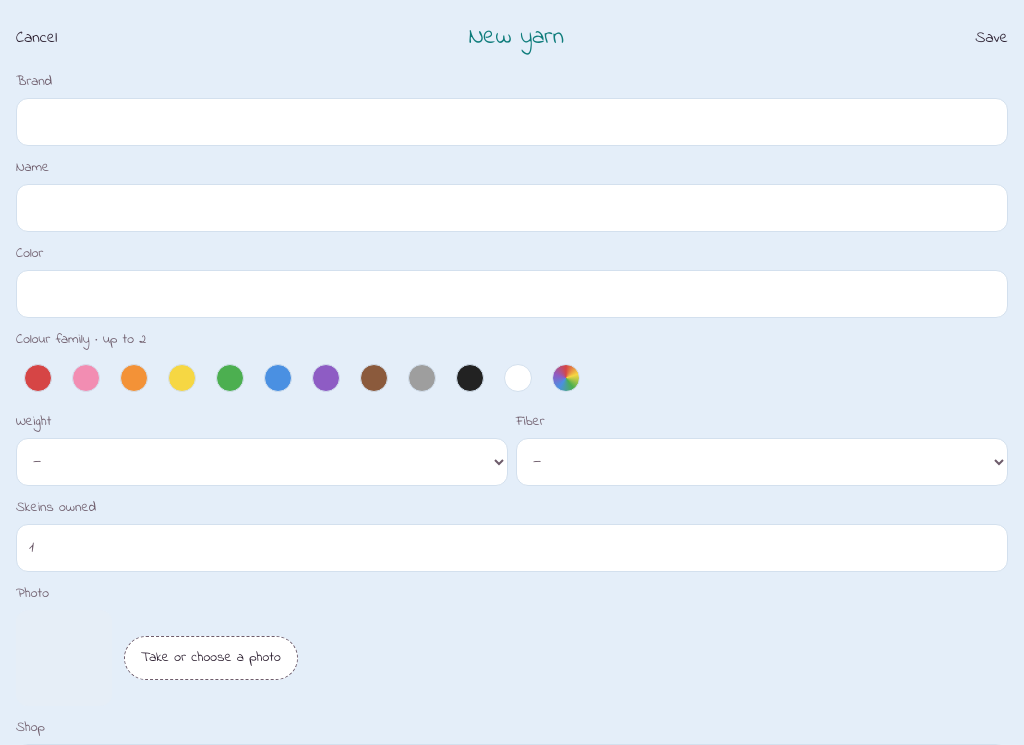
Test: brand narrows the name suggestions; picking a name fills weight and fiber
Type "Hob" into the field labelled "Brand" at (512, 122), box [16, 98, 1008, 146]
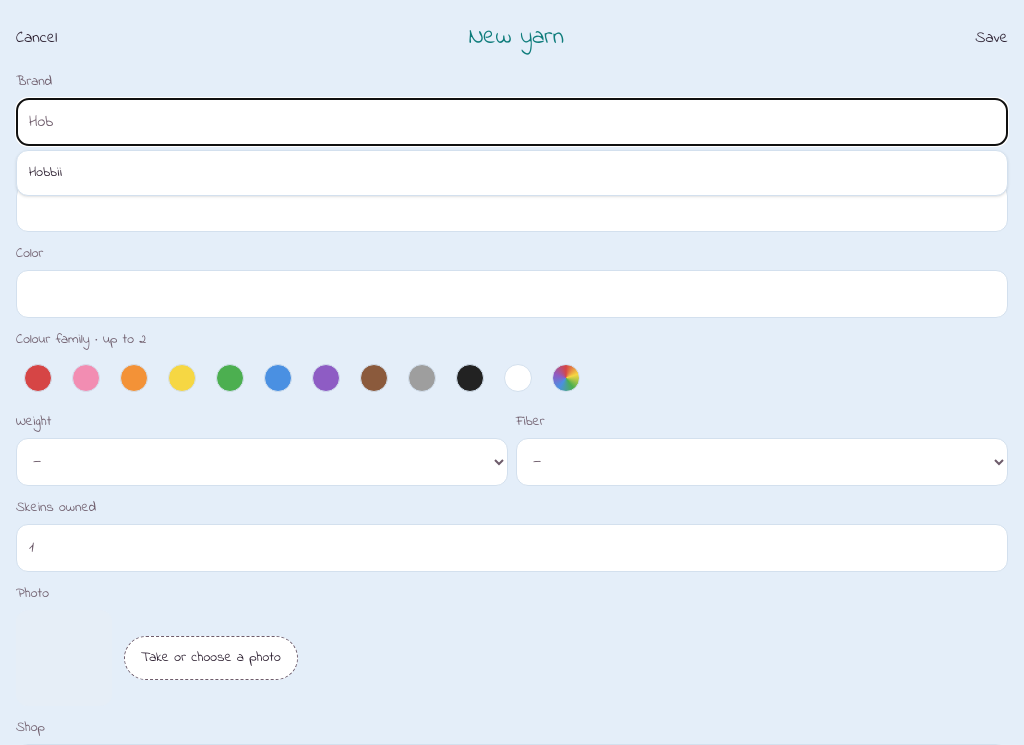
Click the option "Hobbii" at (45, 172), box [17, 151, 1007, 195]
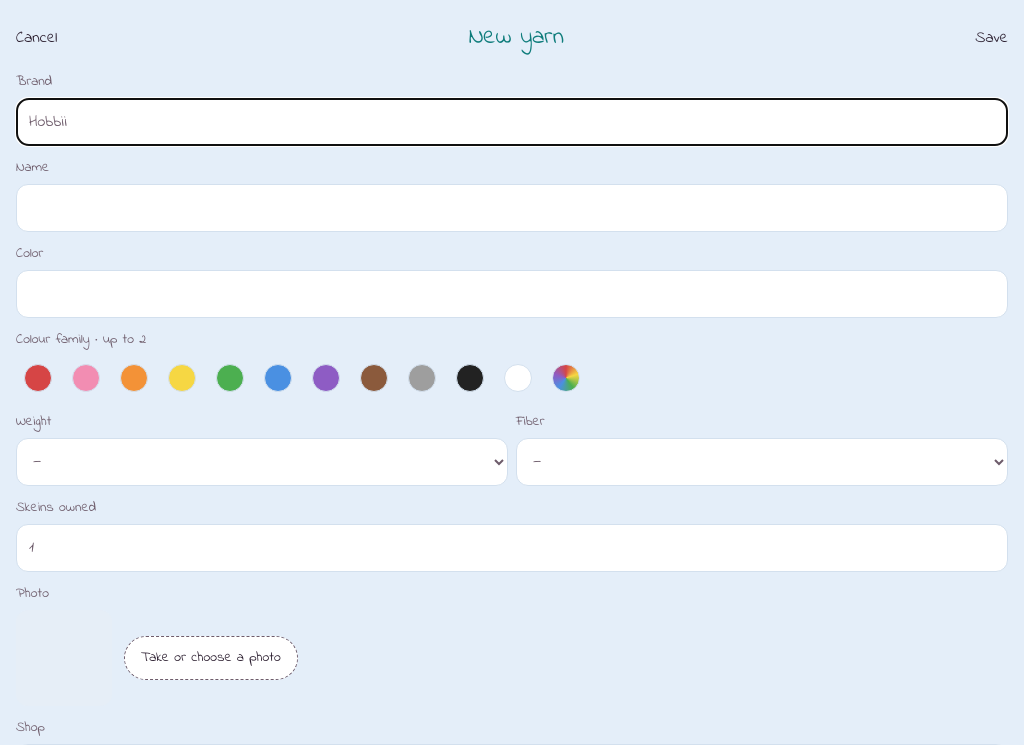
Click the field labelled "Name" at (512, 208), box [16, 184, 1008, 232]
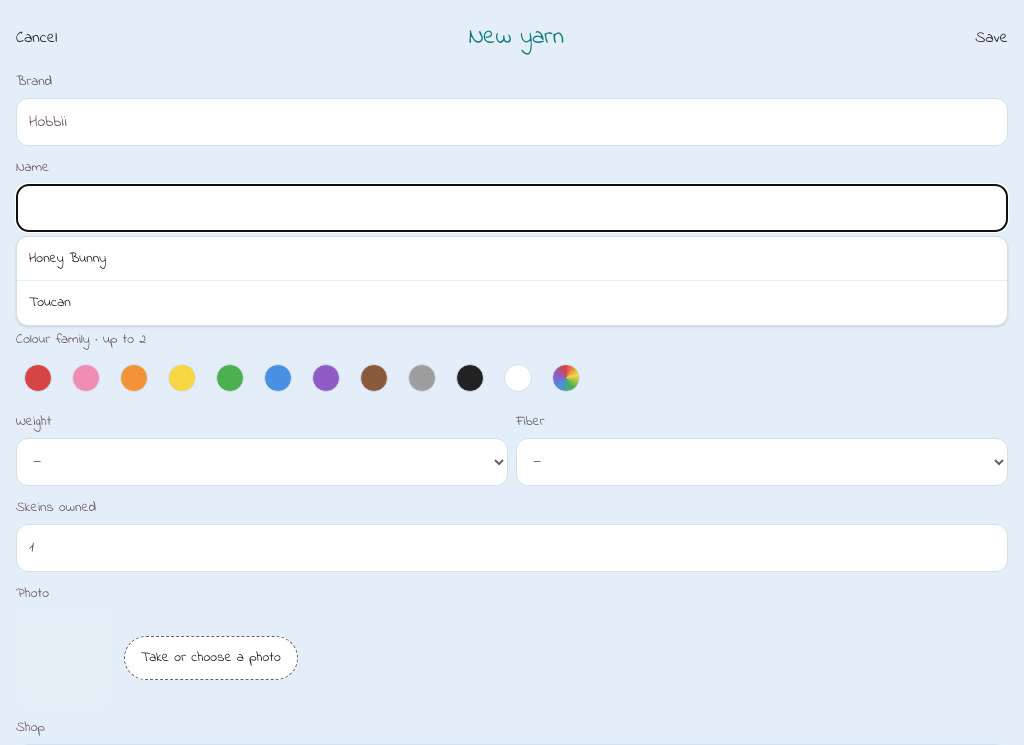
Expected: the list named "Name suggestions" does not show "Paris", [16, 236, 1008, 326]
Expected: the list named "Name suggestions" shows "Honey Bunny"
Click the option "Honey Bunny" at (68, 258), box [17, 237, 1007, 281]
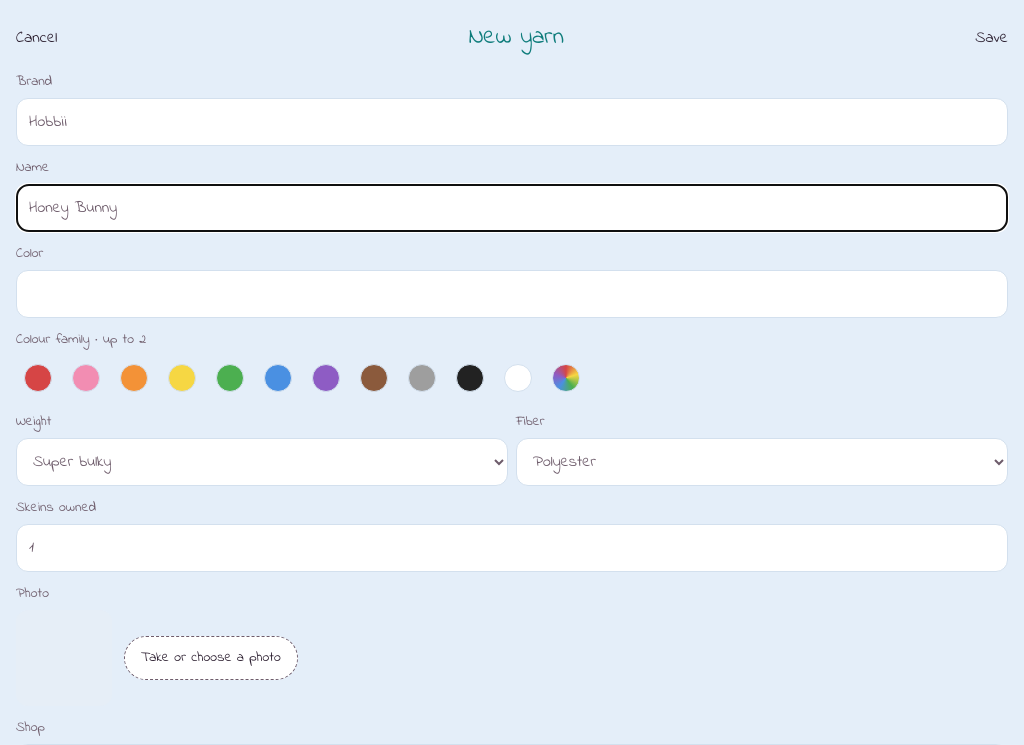
Expected: the dropdown labelled "Weight" shows "Super bulky", [16, 438, 508, 486]
Expected: the dropdown labelled "Fiber" shows "Polyester", [516, 438, 1008, 486]
